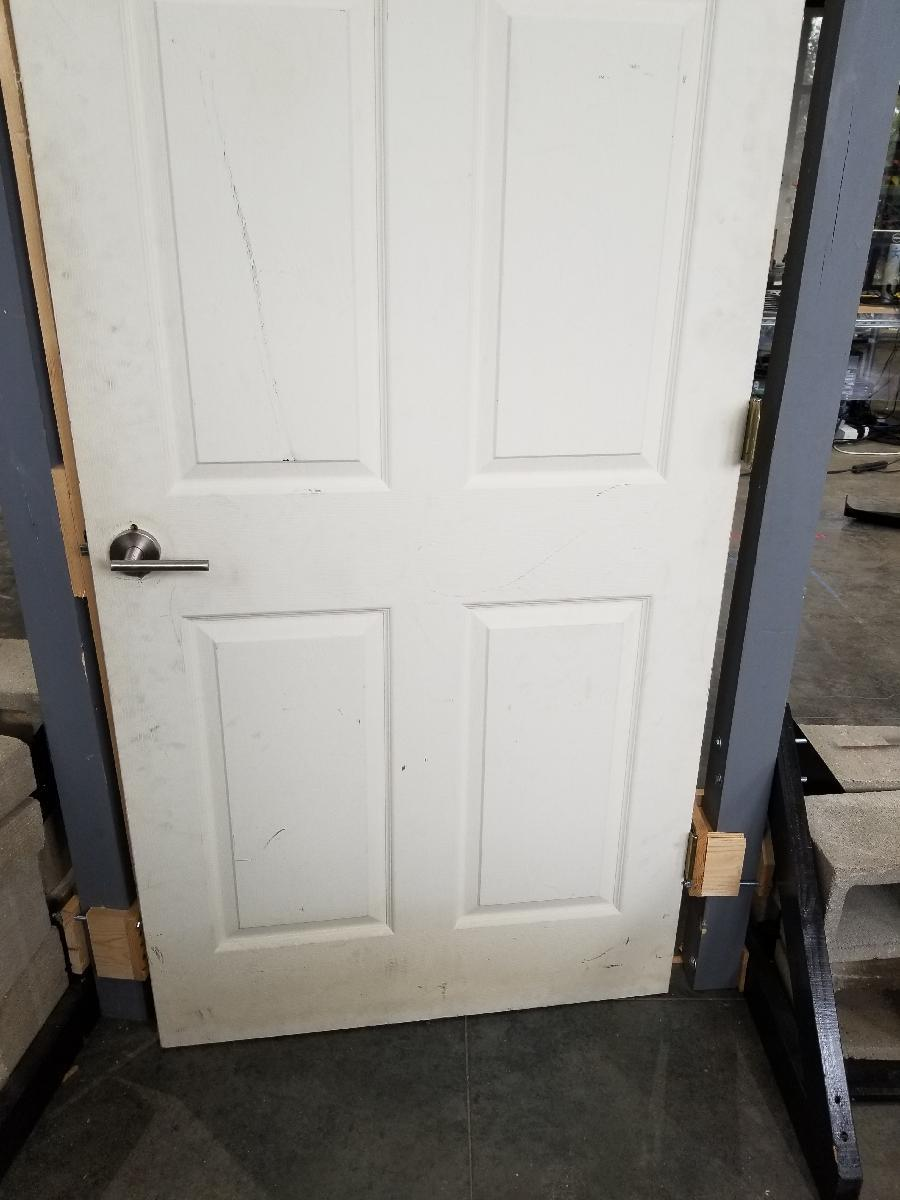door: (156, 0, 687, 1009)
handle: (106, 518, 214, 584)
